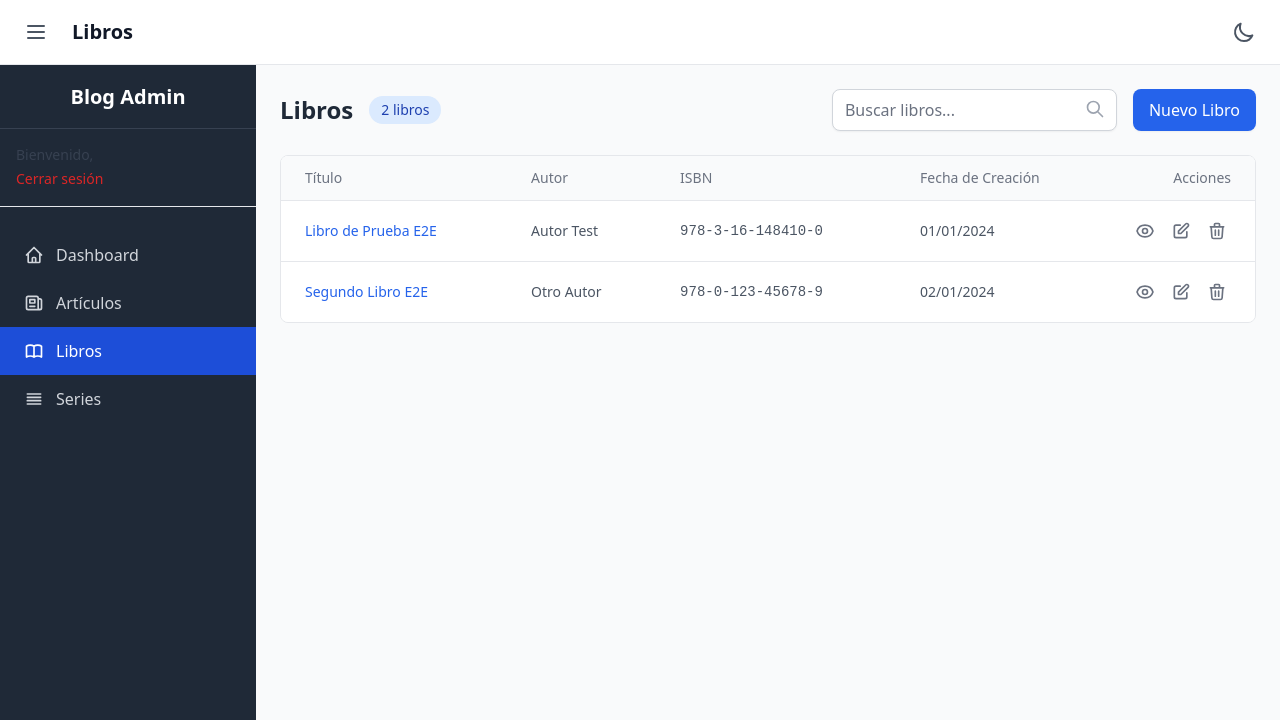
Test: Gestión de Libros › Debería permitir ver detalles de un libro existente
This screenshot has width=1280, height=720.
# Hacemos clic en el primer libro para ver sus detalles
Click the link with test id "view-book-button" in the row of "Libro de Prueba E2E": (1145,231) [1135, 221, 1155, 241]
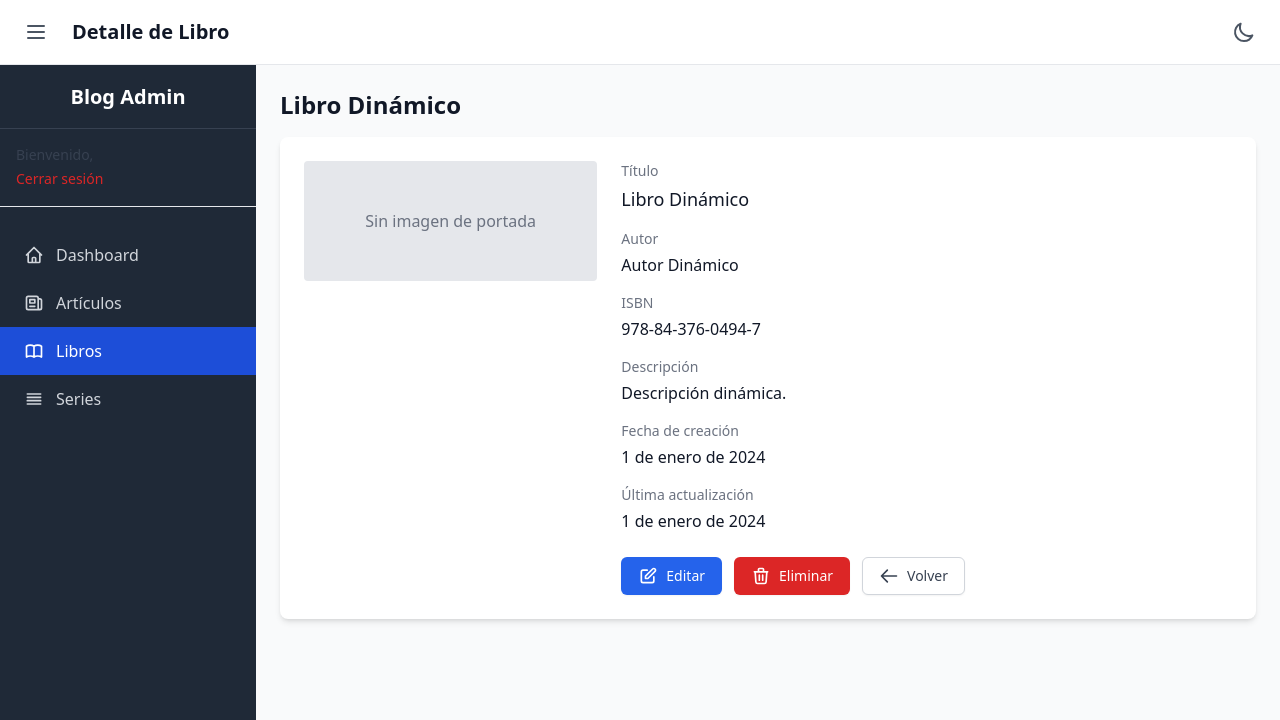
Now the text "Libro Dinámico" is shown, box [621, 187, 749, 211]
Now the text "Autor Dinámico" is shown, box [621, 254, 739, 276]
Now the text "978-84-376-0494-7" is shown, box [621, 318, 761, 340]
